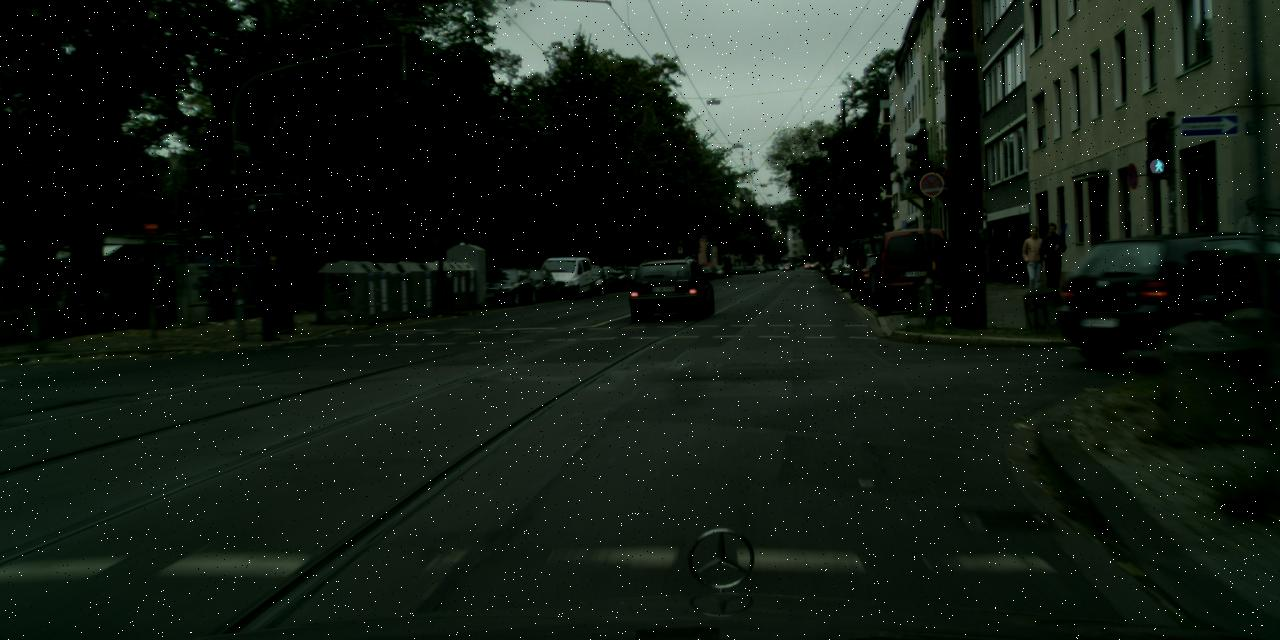ped: (254, 255, 288, 341), (1036, 222, 1068, 299), (1019, 226, 1048, 298)
